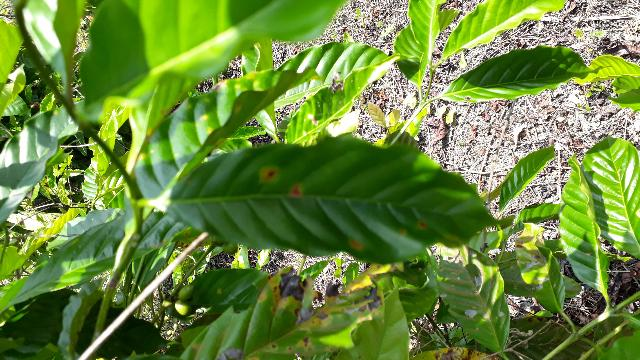rust_level_1: (152, 140, 496, 266)
